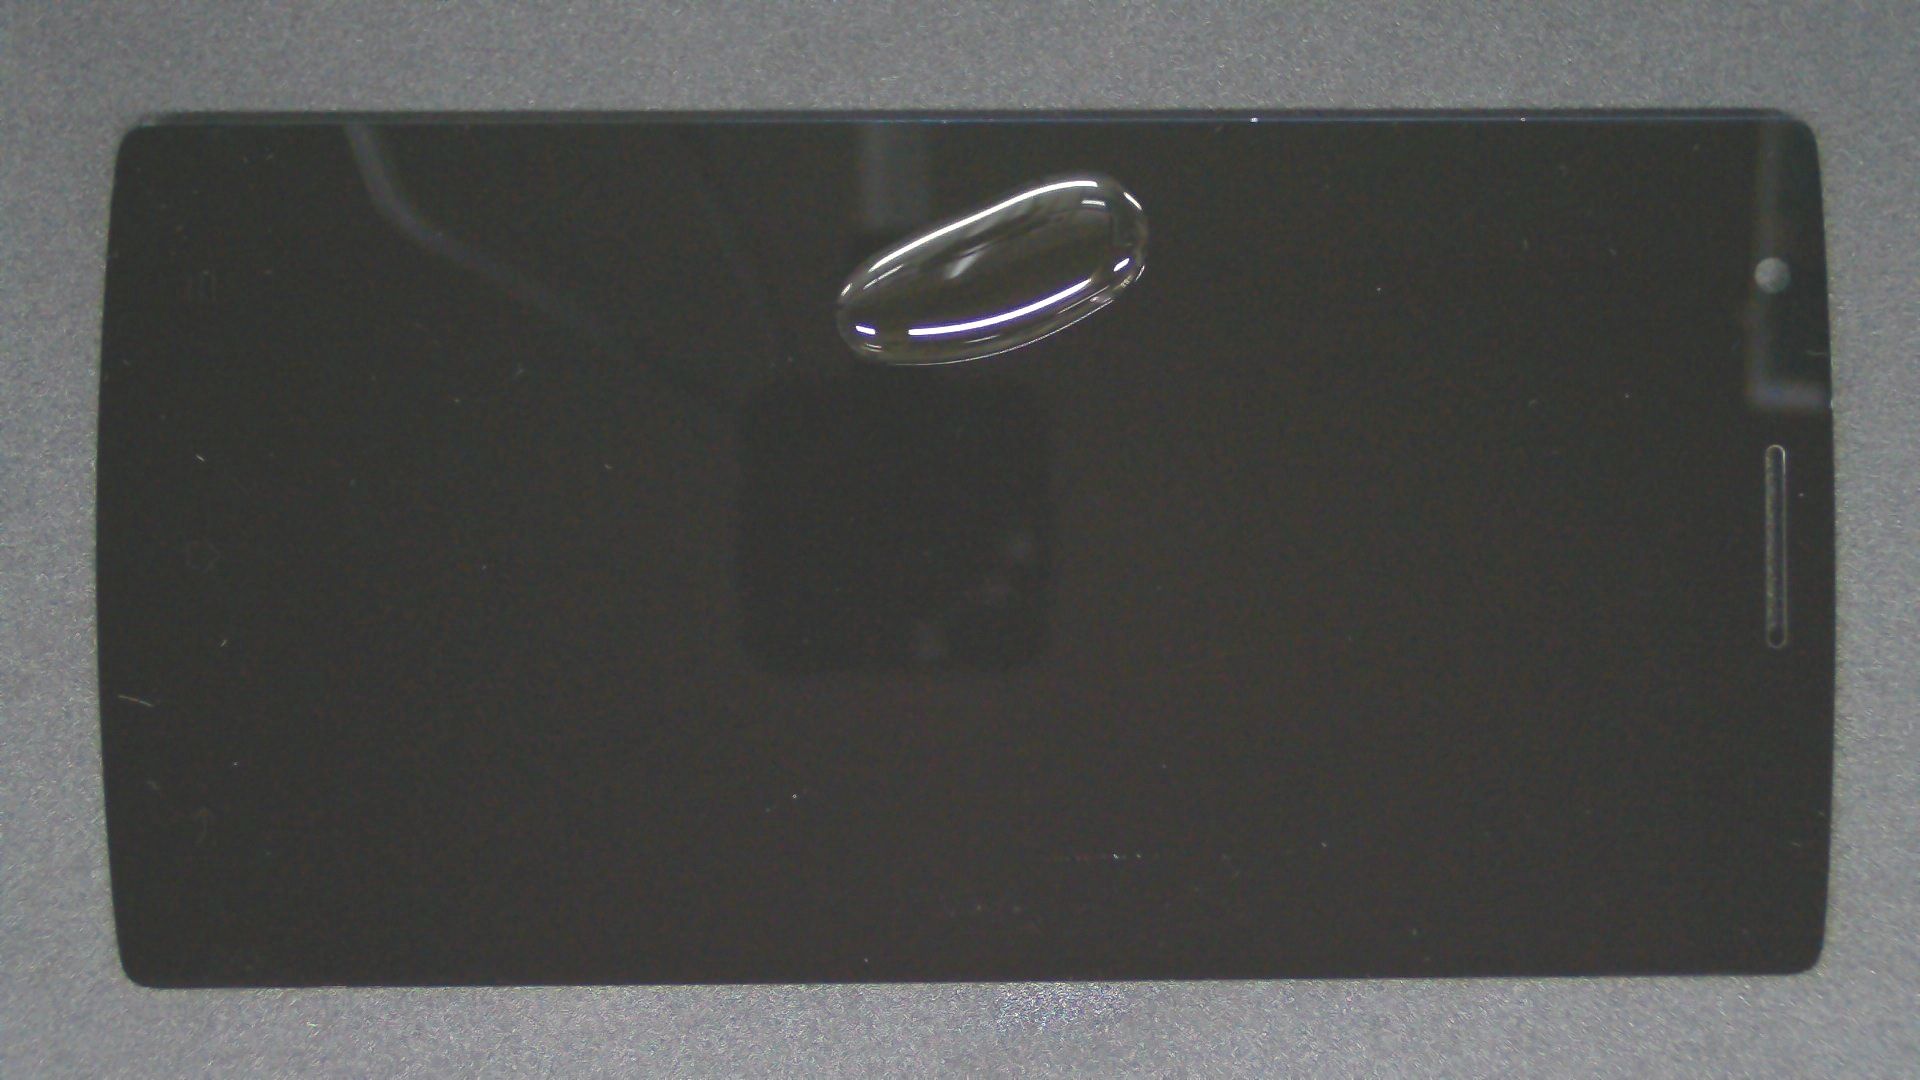oil: (543, 86, 1629, 258)
